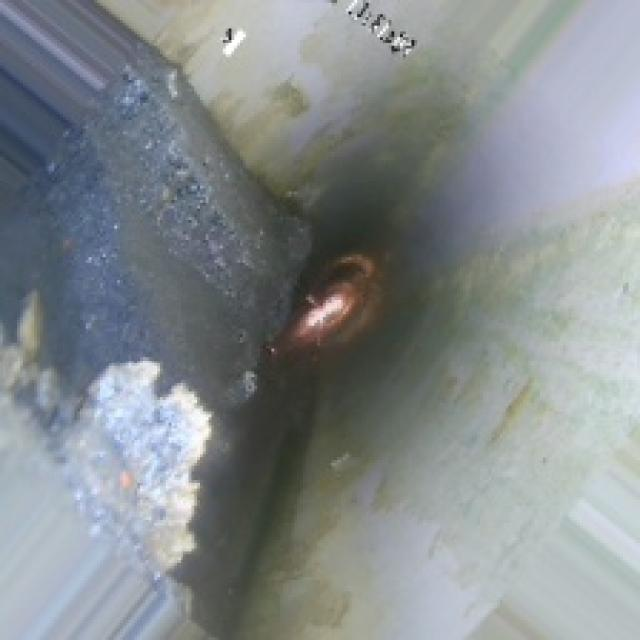sluge accumulation: (37, 74, 320, 554)
